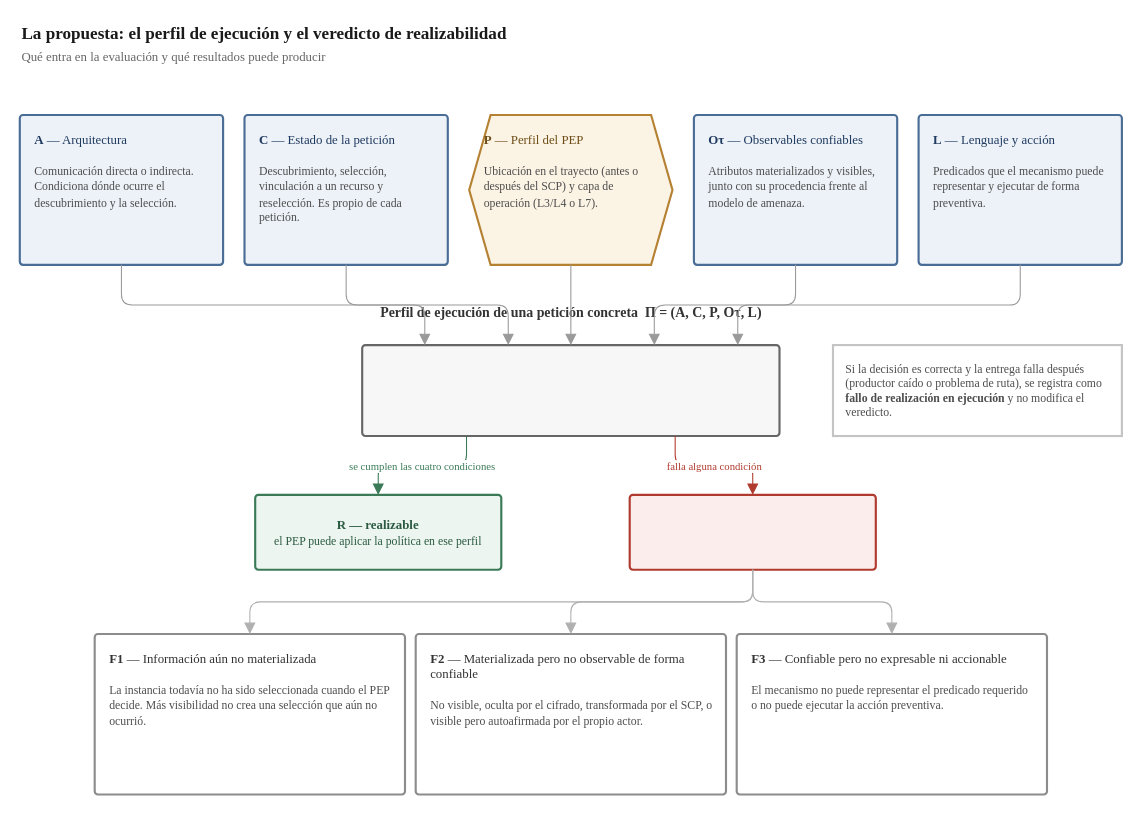
Some shapes in this 1141 by 813 pixel diagram are drawn without their labels. The centre of each missing label's shape, as x and y in pixels:
Enf(I | Π) ¿puede este PEP aplicar el intent I en este perfil?: pixel 570 390
U — no realizable exige identificar la causa: pixel 752 531
